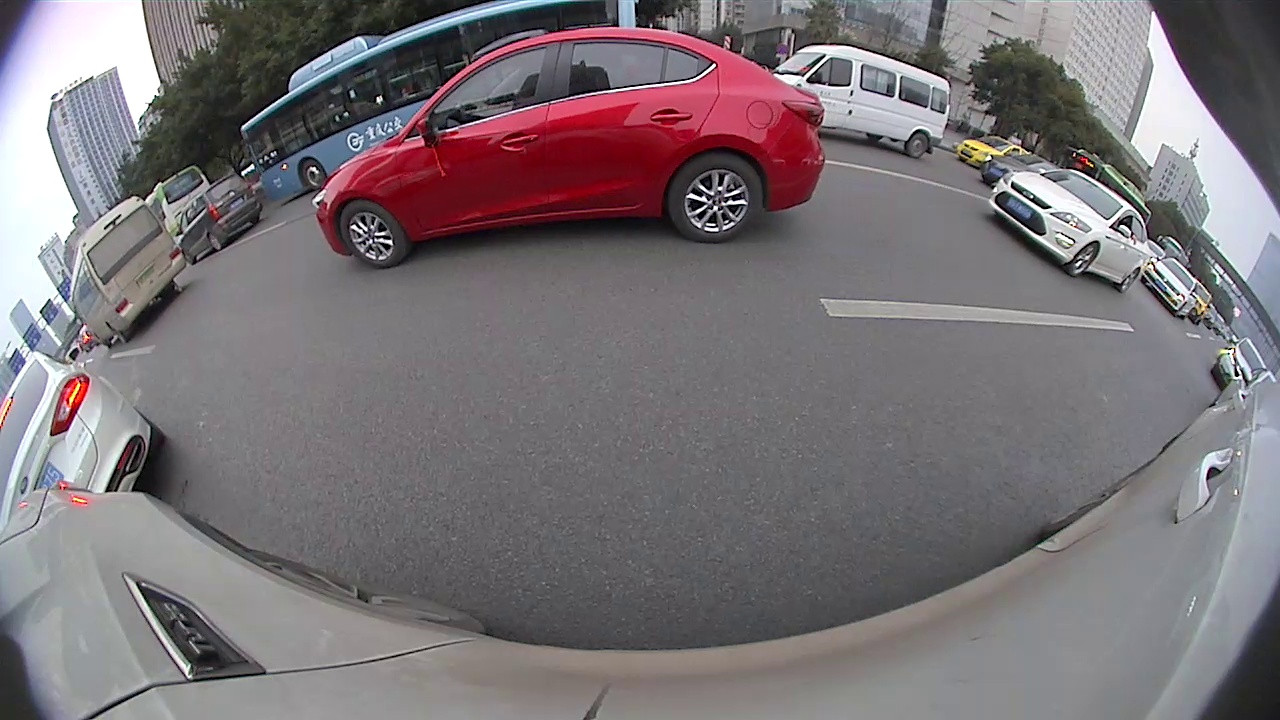bus: (243, 1, 623, 204), (70, 198, 184, 343)
car: (313, 28, 823, 267), (1, 354, 164, 550), (987, 169, 1146, 293), (773, 44, 951, 153), (183, 174, 262, 258), (1144, 260, 1198, 319)
front: (338, 199, 412, 268), (1068, 240, 1102, 276), (299, 159, 329, 192)
rear: (666, 151, 763, 247), (905, 128, 929, 160), (1116, 267, 1142, 295), (207, 233, 224, 253)
